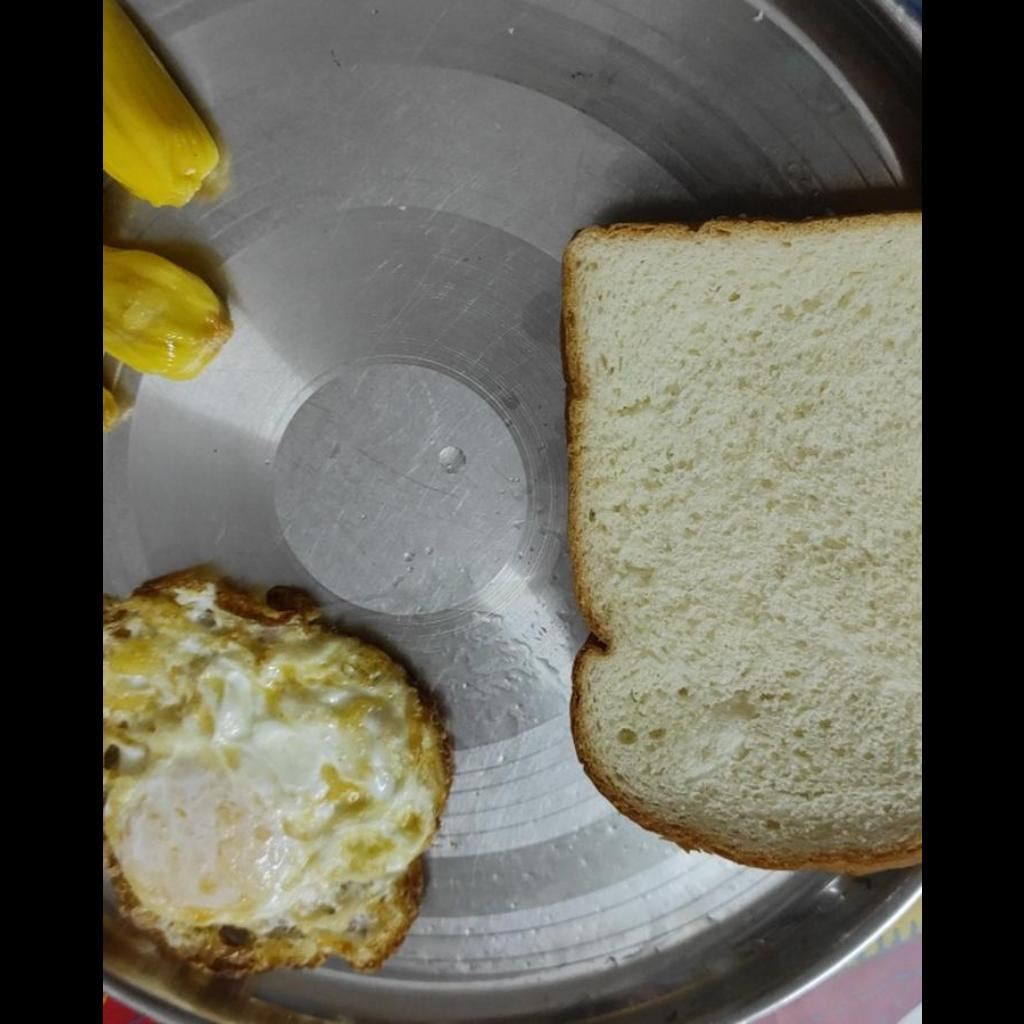bread: (567, 216, 920, 876)
egg-poached: (102, 572, 448, 992)
